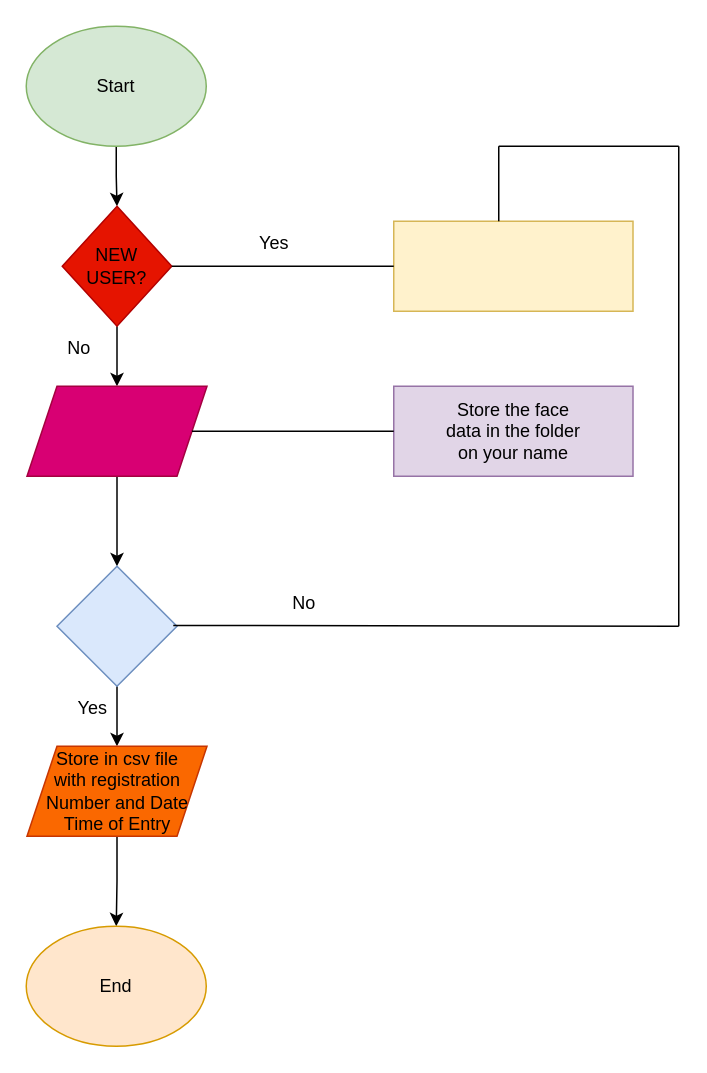
The diagram is 707 pixels wide and 1073 high, and some of its shapes have lost their labels. The shapes that lost their labels are listed below. From the top down, each one's centre as x and y in pixels, then its label:
At (x=512, y=265): "Give your photography".
At (x=116, y=430): "Recognize the Face".
At (x=116, y=625): "Face Recognized".
